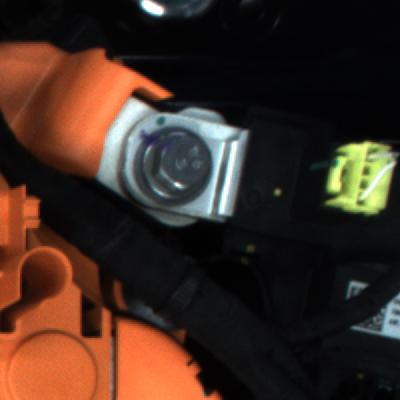nut_b: (126, 119, 220, 216)
